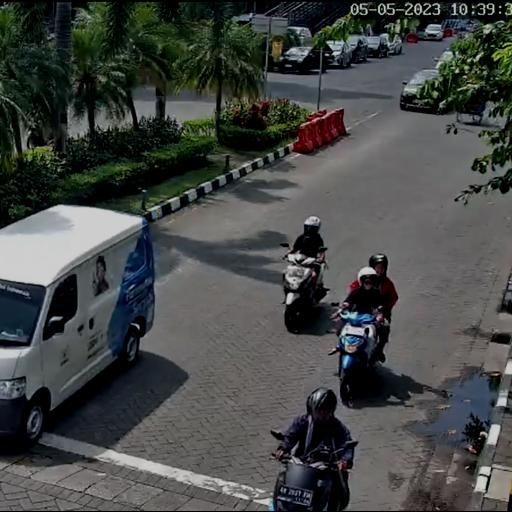mobil: (0, 194, 171, 440)
motor: (330, 296, 404, 406), (267, 426, 354, 512), (280, 237, 330, 336)
